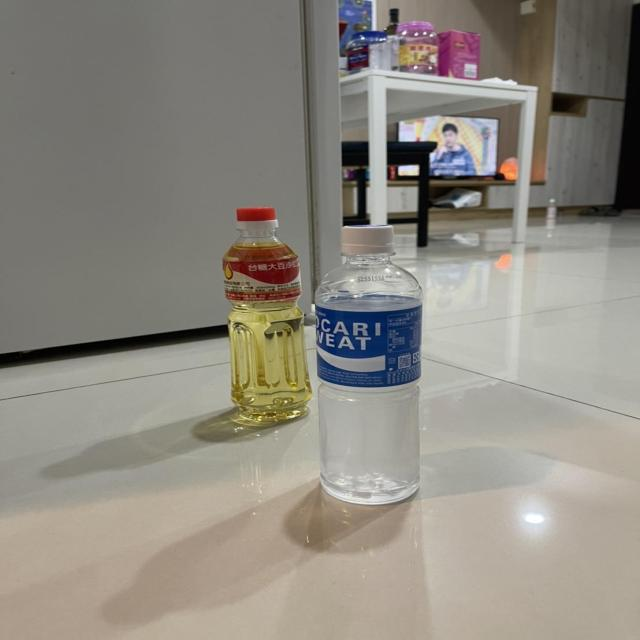bottle: (312, 225, 425, 510), (218, 199, 309, 430)
